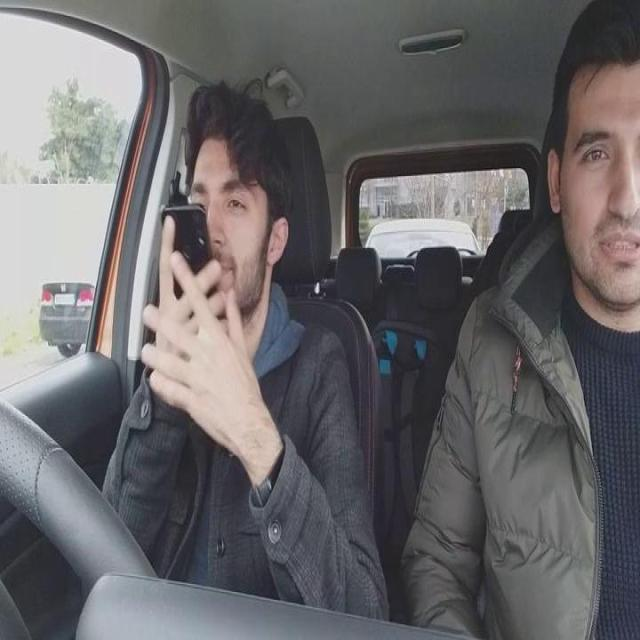phone: (162, 202, 212, 306)
